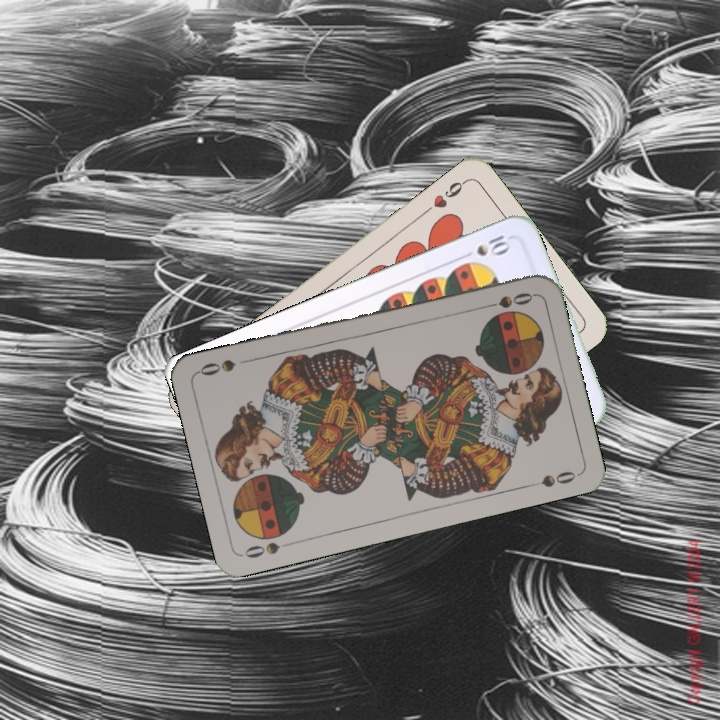H9: (419, 175, 470, 217)
S10: (456, 231, 513, 262)
SO: (478, 288, 536, 312), (240, 537, 298, 561)
